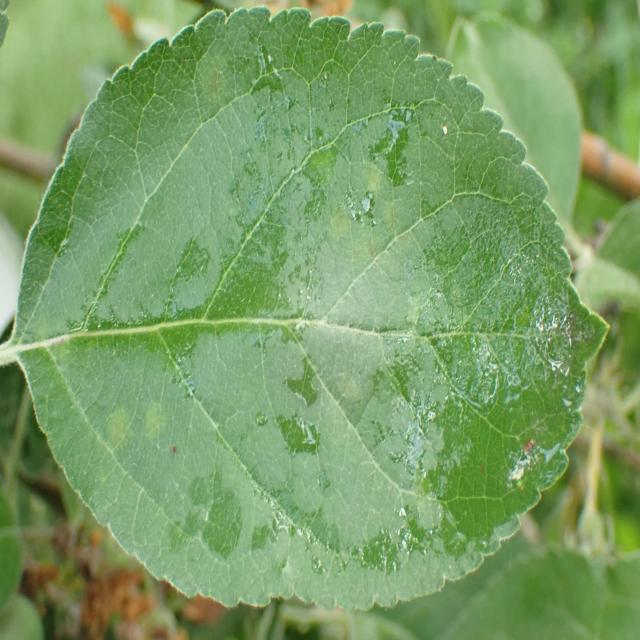scab: (13, 56, 470, 522)
